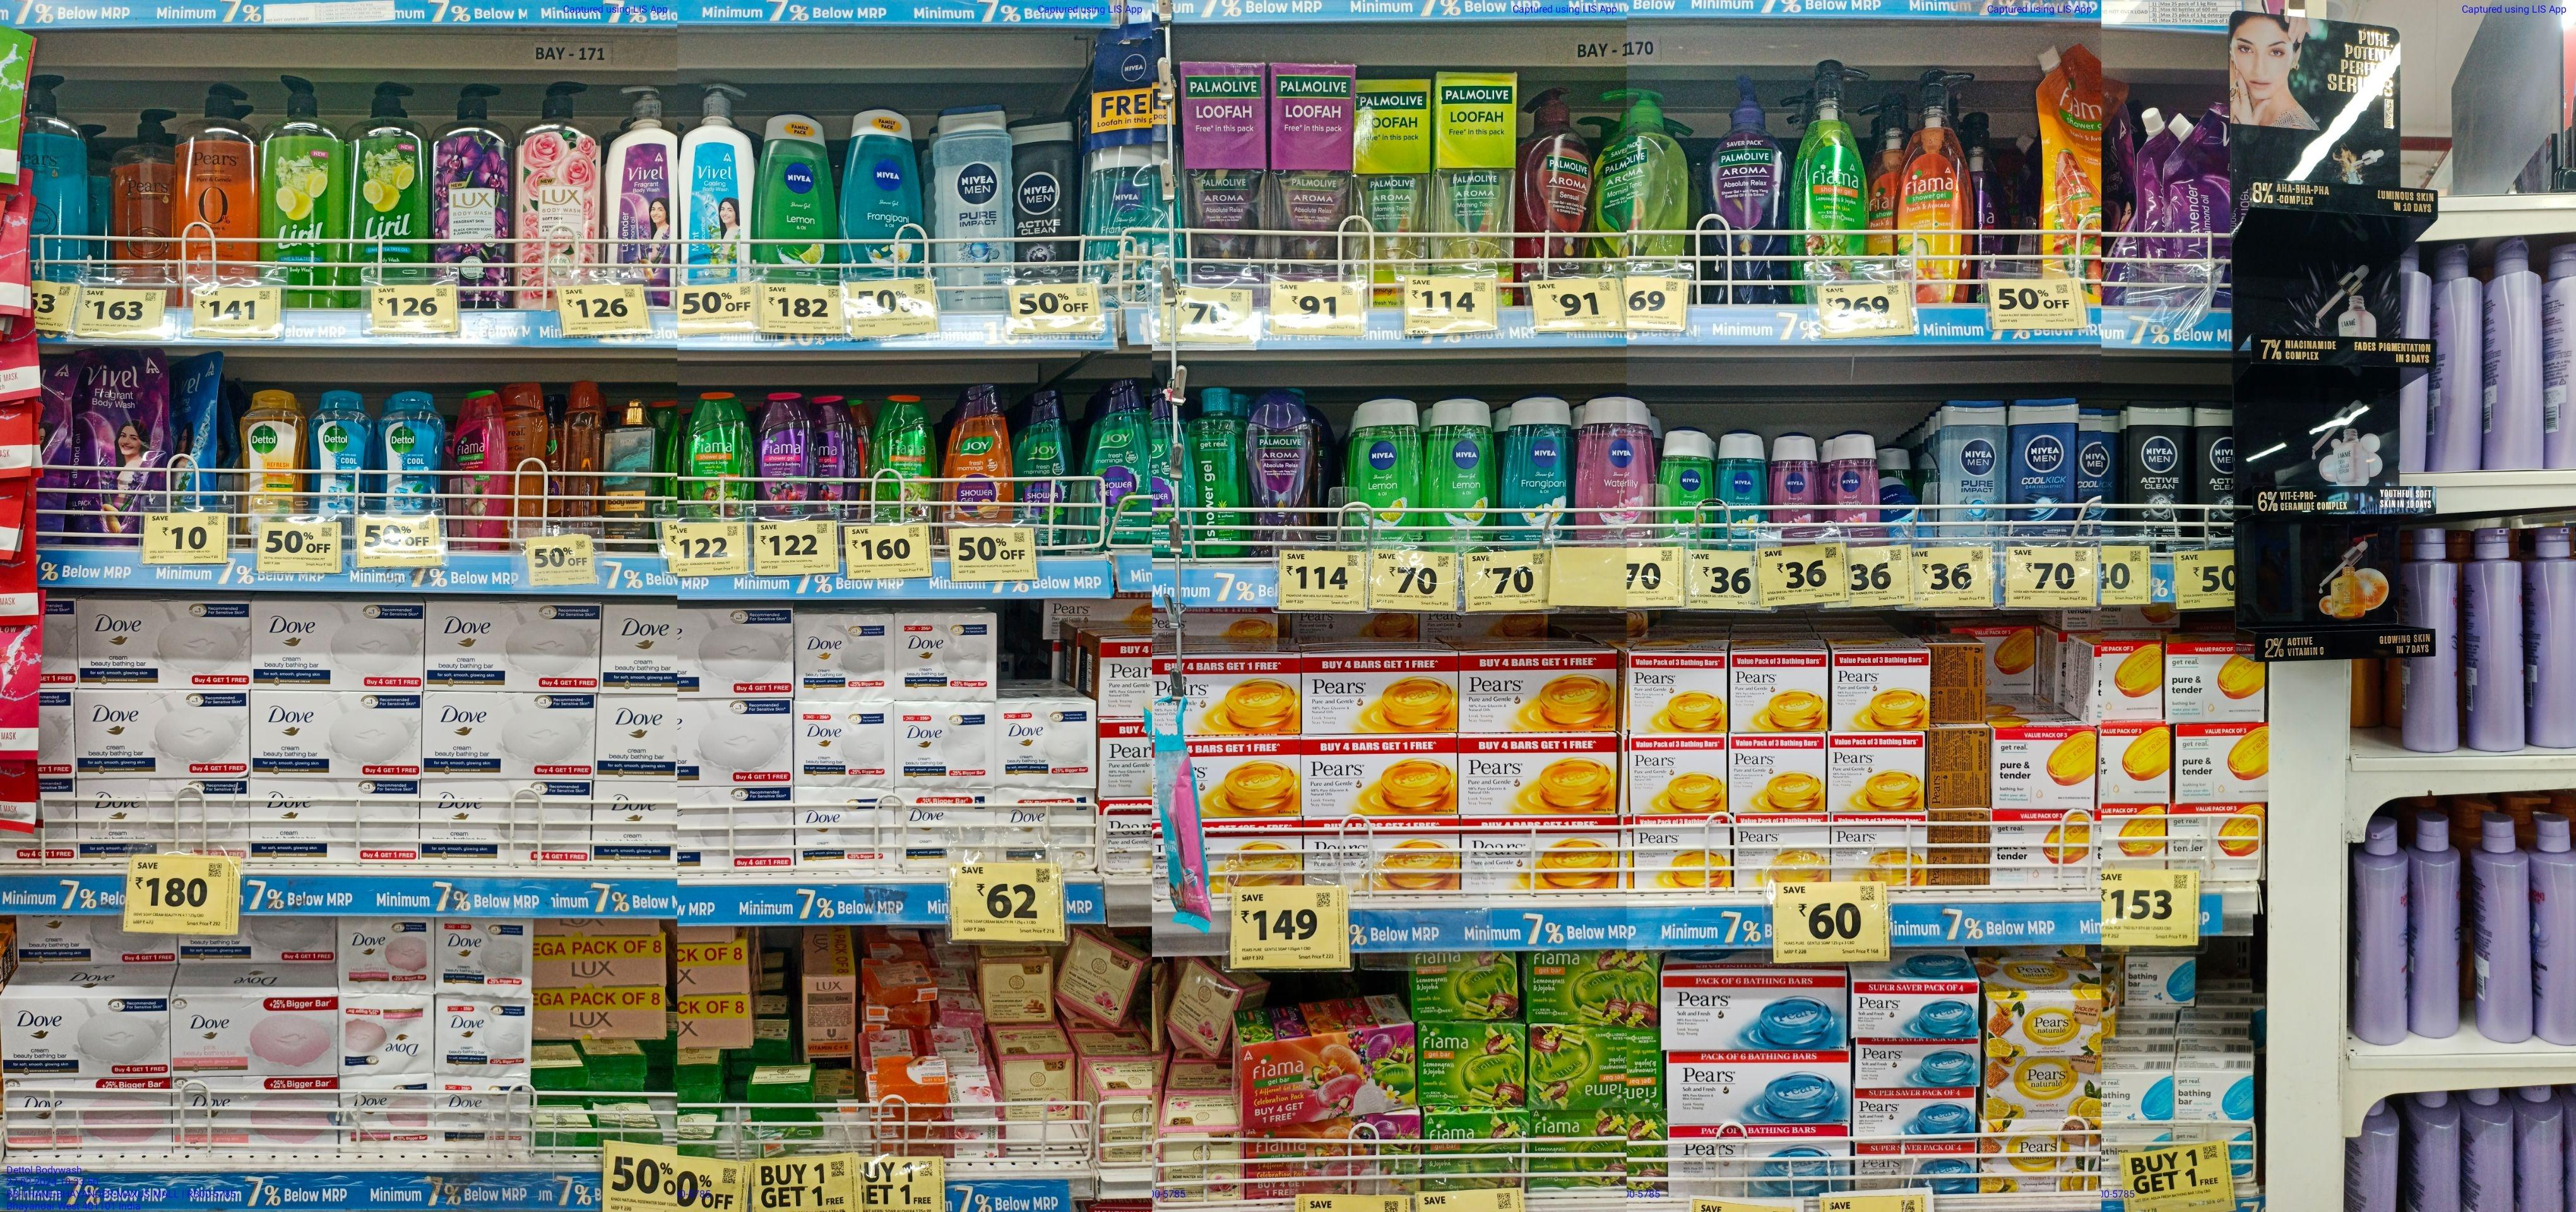Dettol_Bodywash_Cool: (311, 386, 368, 529), (381, 384, 439, 522)
Dettol_Bodywash_Refresh: (241, 384, 297, 526)
Fiama_Shower_Gel_Lemongrass_and_Jojoba_250ML: (685, 393, 752, 524), (871, 394, 935, 527)
Fiama_Shower_Gel_Patchouli_and_Macadamia_250ML: (447, 388, 501, 542)
Joy_Shower_Gel_Mandarin_and_Lemongrass_250ML: (943, 383, 1015, 522)
Joy_Shower_Gel_Mint_and_Eucalyptus_250ML: (1086, 374, 1145, 549), (1017, 384, 1073, 552), (1150, 388, 1196, 557)
Nivea_Shower_Gel_Frangipani_and_Oil_250ML: (846, 100, 927, 278), (1506, 394, 1571, 549), (1717, 430, 1769, 552)
Nivea_Shower_Gel_Lemon_and_Oil_250ML: (752, 107, 836, 287), (1354, 394, 1421, 552), (1429, 399, 1497, 557), (1658, 427, 1710, 552)
Nivea_Shower_Gel_Waterlily_and_Oil_250ML: (1582, 394, 1656, 545), (1828, 432, 1881, 547), (1773, 430, 1817, 542)
Palmolive_Aroma_Relax_250ML: (1245, 389, 1316, 563)
